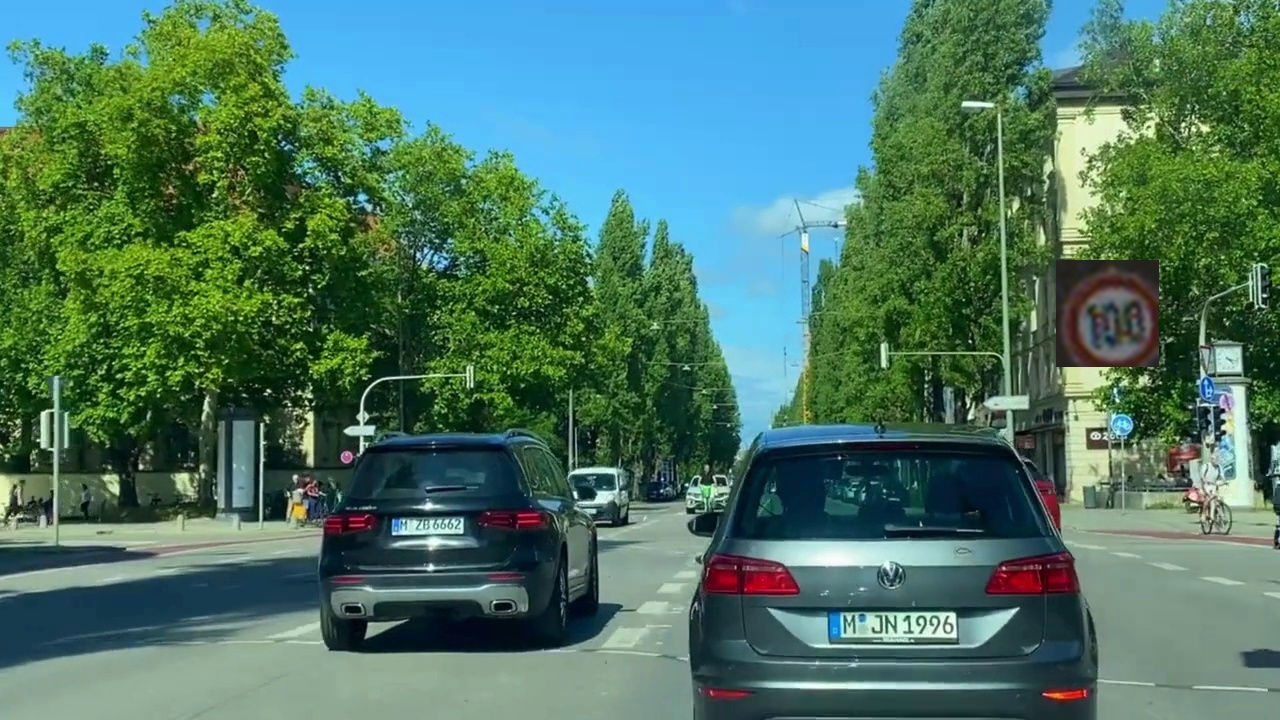Speed 100: (1056, 260, 1159, 367)
